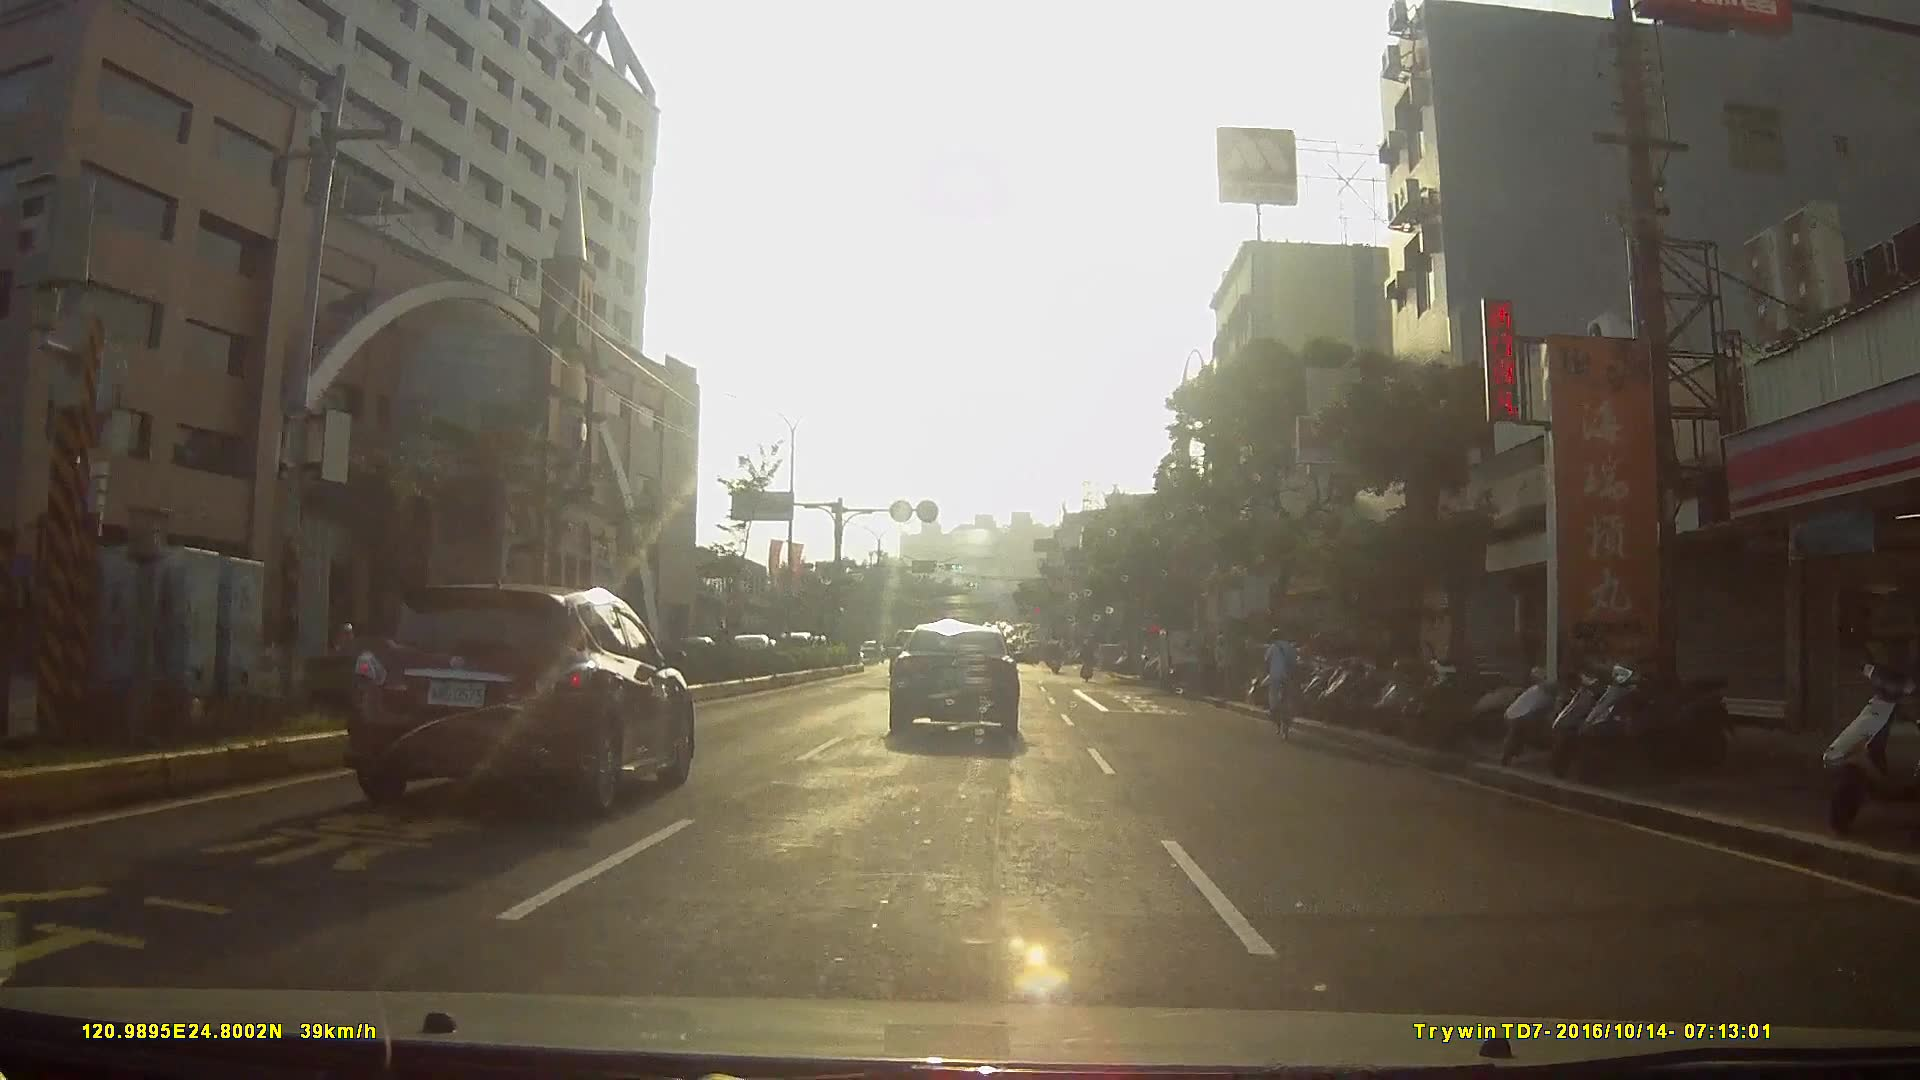rider: (1260, 624, 1304, 738)
vehicle: (340, 578, 708, 821), (884, 614, 1034, 745), (1155, 620, 1224, 689), (763, 607, 822, 662)
